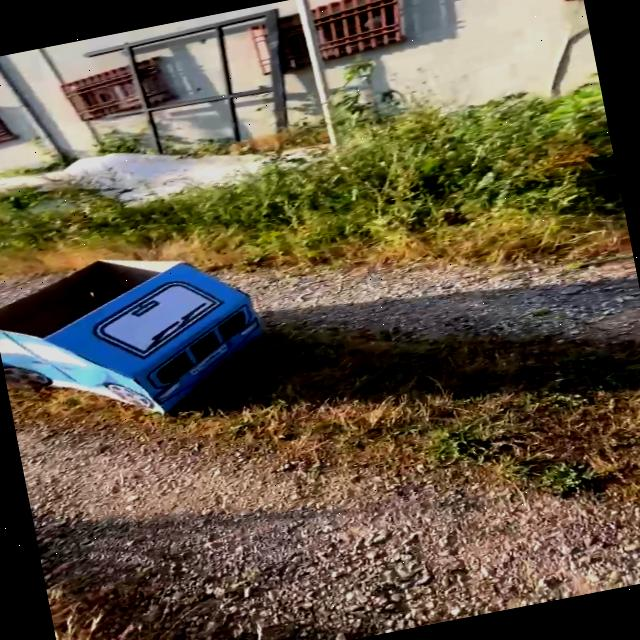blue_car: (0, 209, 350, 455)
